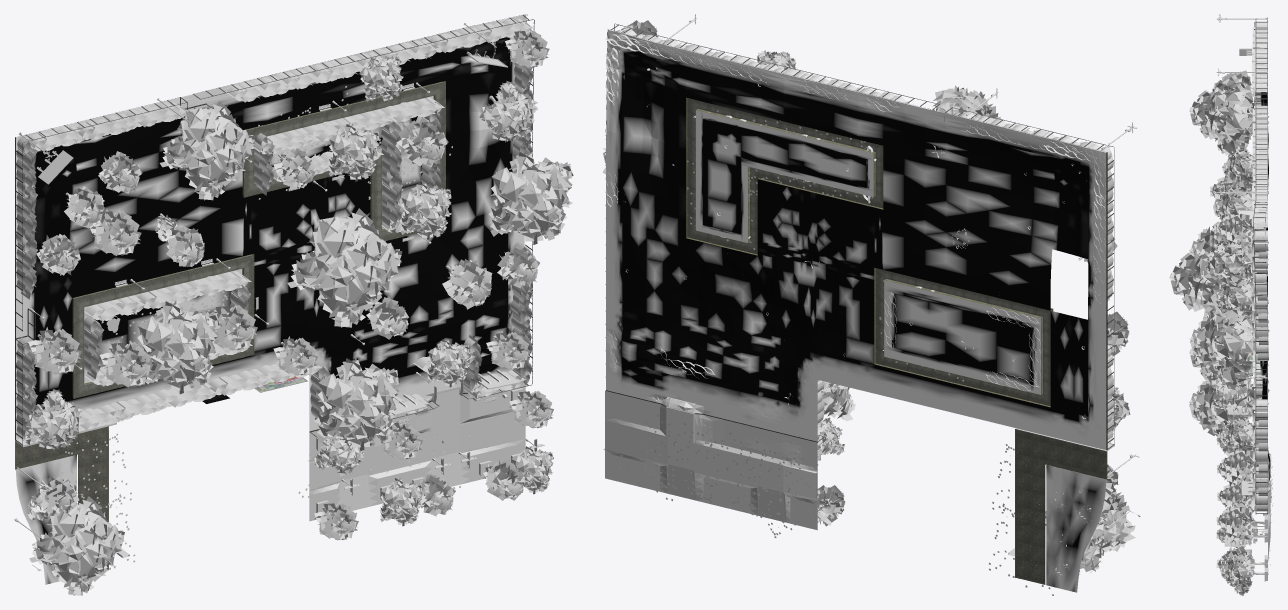
File: UnionCity_Park.fbx
3 renders of one model, left to right at view 1: azimuth 30°, elevation 25°; view 2: azimuth 150°, elevation 25°; view 3: azimuth 270°, elevation 25°, orthographic. The views are drawn at different scales.
Parts seen in each view (by area): view 1: prop_static_65228, worldspawn_1_43552, worldspawn_1_43398, prop_static_65482, prop_static_65227, prop_static_65230, prop_static_65064, prop_static_65229, worldspawn_1_43587, worldspawn_1_43475, worldspawn_1_43328, worldspawn_1_43384 (+86 smaller); view 2: worldspawn_1_43587, worldspawn_1_43552, worldspawn_1_43398, worldspawn_1_43629, worldspawn_1_43475, worldspawn_1_43384, worldspawn_1_43020, worldspawn_1_43391, worldspawn_1_43517, worldspawn_1_43608, worldspawn_1_43328, worldspawn_1_891 (+68 smaller); view 3: prop_static_65482, prop_static_65230, prop_static_65228, prop_static_65227, prop_static_64466, prop_static_64499, prop_static_65481, prop_static_64483, prop_static_65202, prop_static_64467, prop_static_64471, prop_static_64465 (+30 smaller).
Boxes of the visible parts, x1,y1,x2,y2 form: prop_static_65228: (287,208,402,327); worldspawn_1_43552: (72,195,242,297); worldspawn_1_43398: (443,67,510,222); prop_static_65482: (488,151,573,244); prop_static_65227: (315,357,400,451); prop_static_65230: (159,101,255,200); prop_static_65064: (29,496,124,595); prop_static_65229: (137,300,219,394); worldspawn_1_43587: (74,151,242,237); worldspawn_1_43475: (242,53,443,129); worldspawn_1_43328: (254,261,311,351); worldspawn_1_43384: (375,232,446,317); worldspawn_1_43587: (883,146,1055,248); worldspawn_1_43552: (883,209,1052,310); worldspawn_1_43398: (622,80,686,237); worldspawn_1_43629: (894,293,1030,381); worldspawn_1_43475: (686,69,883,145); worldspawn_1_43384: (686,238,762,332); worldspawn_1_43020: (1046,465,1106,592); worldspawn_1_43391: (622,223,689,315); worldspawn_1_43517: (874,364,1050,436); worldspawn_1_43608: (883,117,1054,183); worldspawn_1_43328: (817,268,874,364); worldspawn_1_891: (1015,430,1045,584); prop_static_65482: (1190,307,1255,389); prop_static_65230: (1189,75,1268,156); prop_static_65228: (1169,243,1248,318); prop_static_65227: (1189,380,1268,452); prop_static_64466: (1205,240,1252,289); prop_static_64499: (1251,270,1268,360); prop_static_65481: (1252,105,1267,184); prop_static_64483: (1252,422,1267,511); prop_static_65202: (1220,553,1264,595); prop_static_64467: (1213,276,1268,317); prop_static_64471: (1222,149,1255,191); prop_static_64465: (1217,213,1265,245).
Size of the model in its own units: 4901 by 4154 by 1012.
